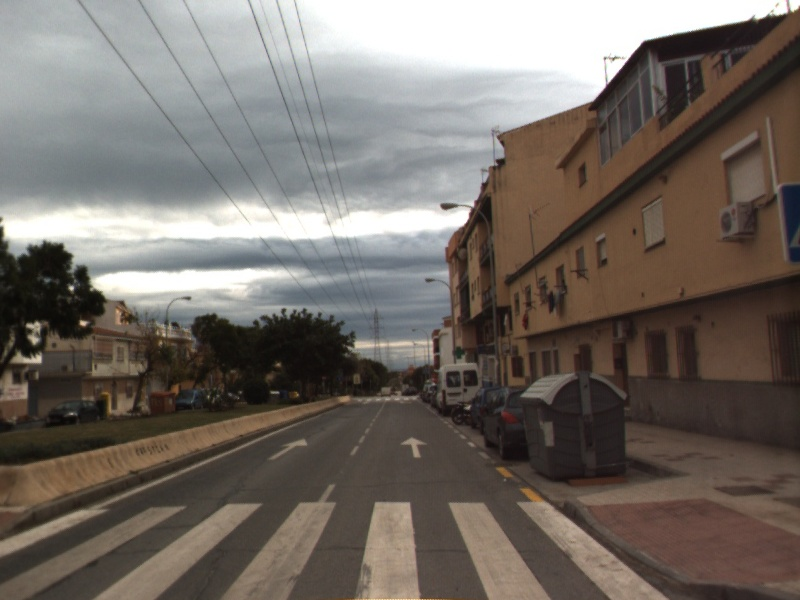STRAIGHT: (265, 436, 310, 462), (398, 435, 430, 459)
